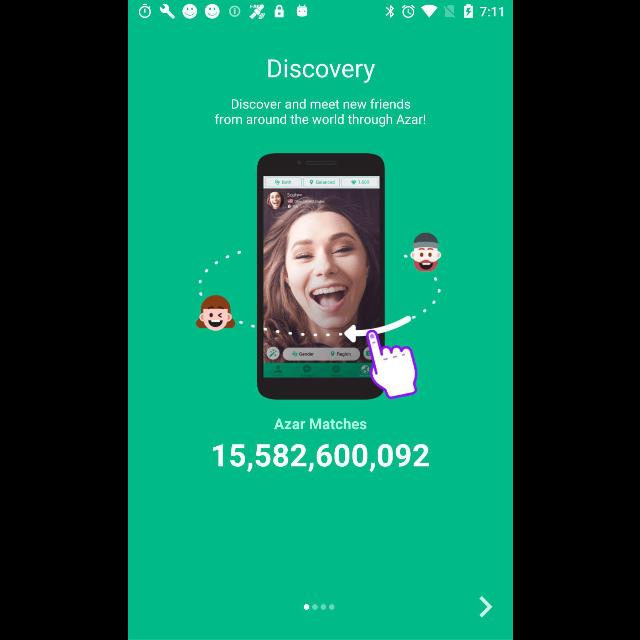icon: (478, 596, 492, 618)
image: (193, 154, 441, 400)
pageindicator: (302, 604, 334, 610)
text: (212, 443, 428, 472), (214, 99, 426, 128), (268, 60, 374, 84), (272, 418, 366, 430)
uppertaskbar: (128, 1, 512, 23)
